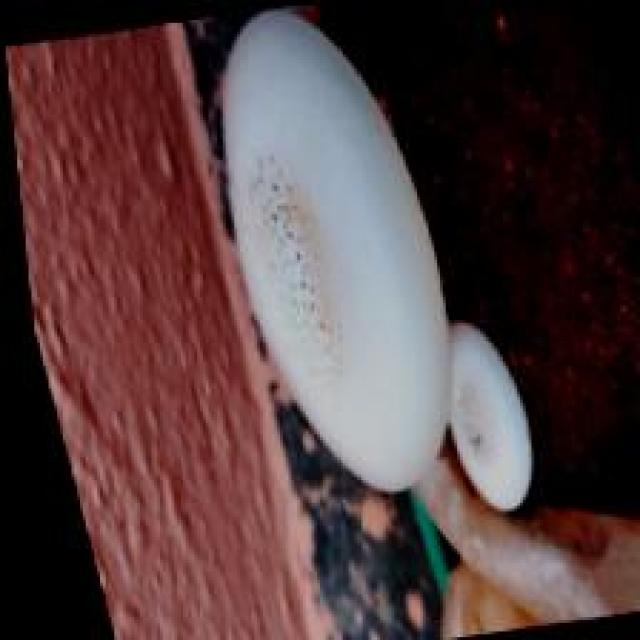death-cap: (215, 3, 454, 494)
